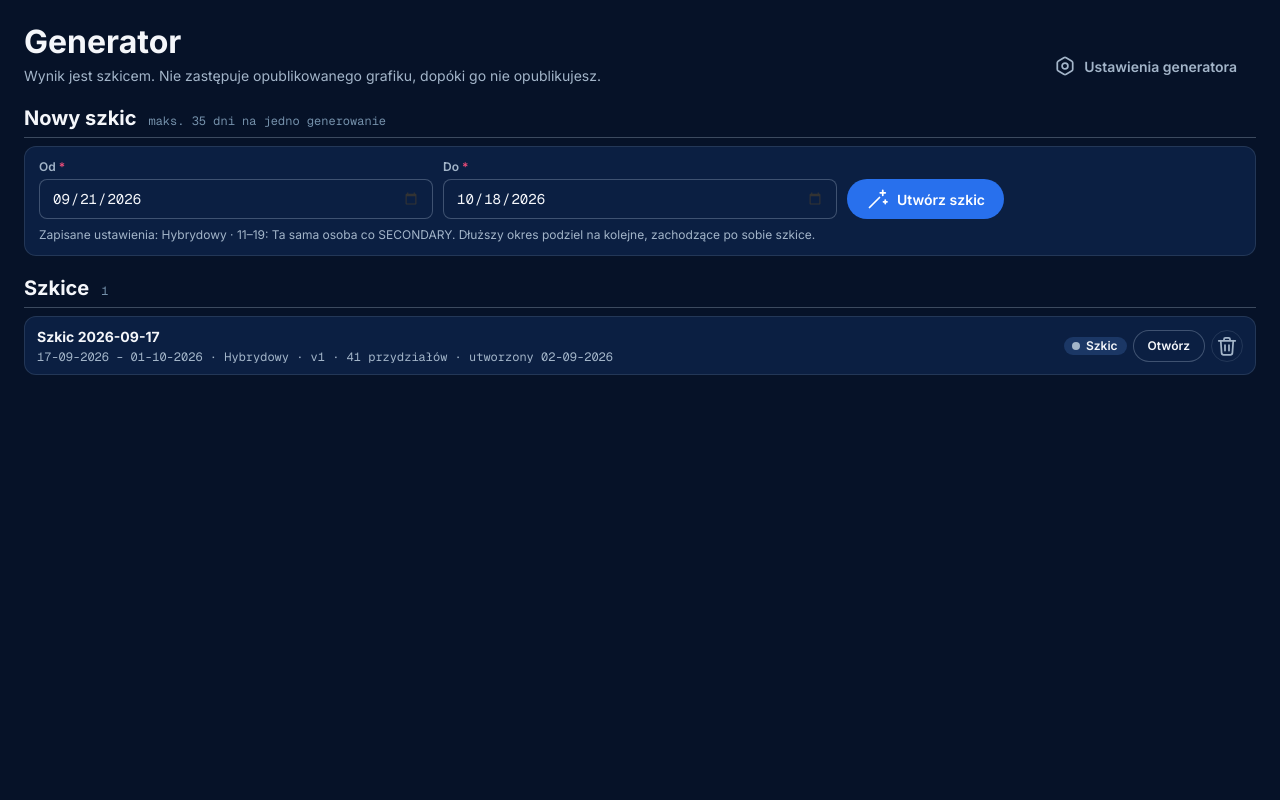
Test: GeneratorPanel draft persistence › shows the lifecycle and who acts at each stage
Click the button "Otwórz" at (1169, 346), box [1133,330,1205,362]
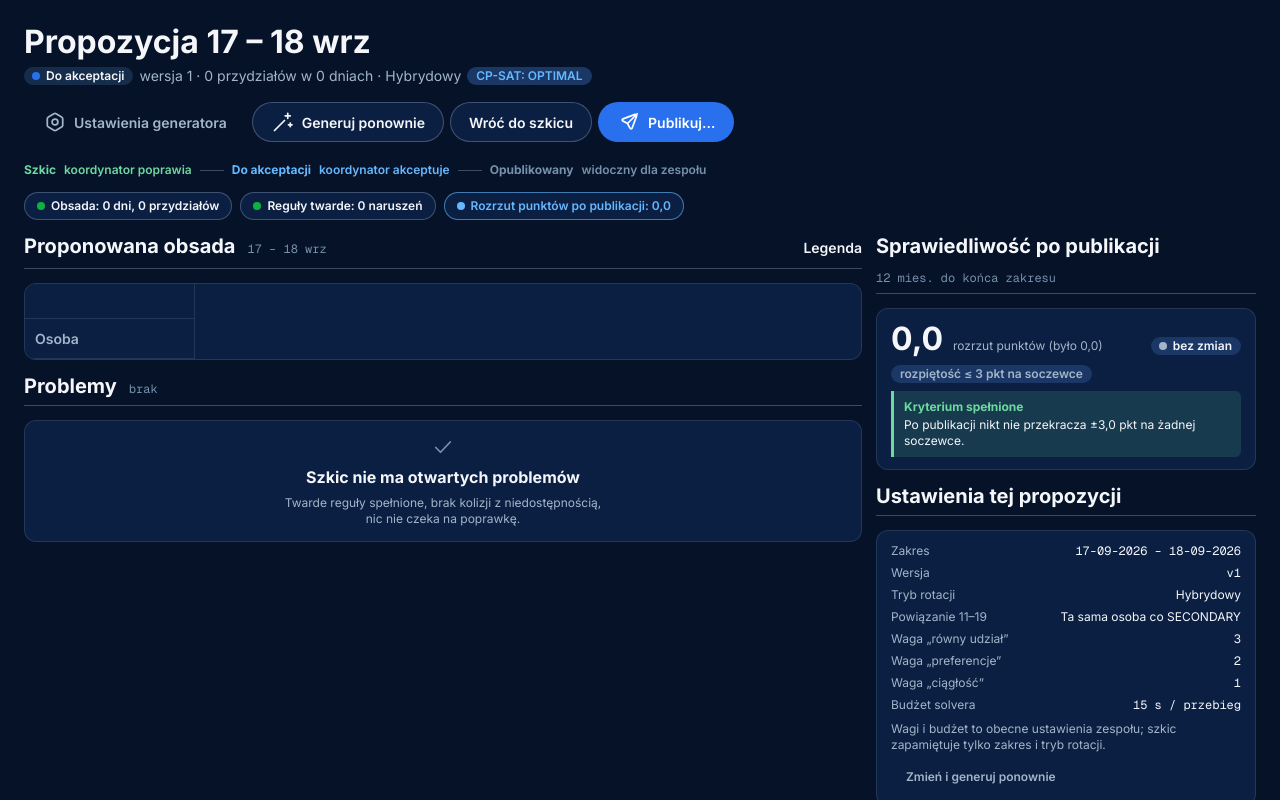
Check: the text "koordynator poprawia" is shown, box [64,162,192,178]
Check: the text "koordynator akceptuje" is shown, box [319,162,450,178]
Check: the text "widoczny dla zespołu" is shown, box [582,162,706,178]
